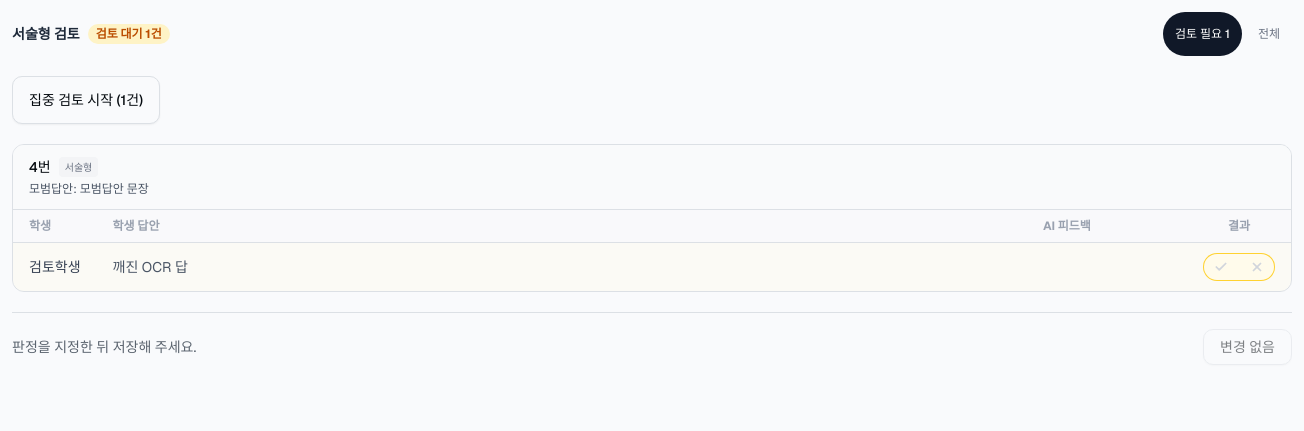
SubjectiveReviewPanel — 판정 버튼 분리 › "전체" 칩을 누르면 모든 학생이 보인다
This screenshot has width=1304, height=431.
Step 1. Click the button "전체" → (1269, 34), box [1246,12,1292,56]
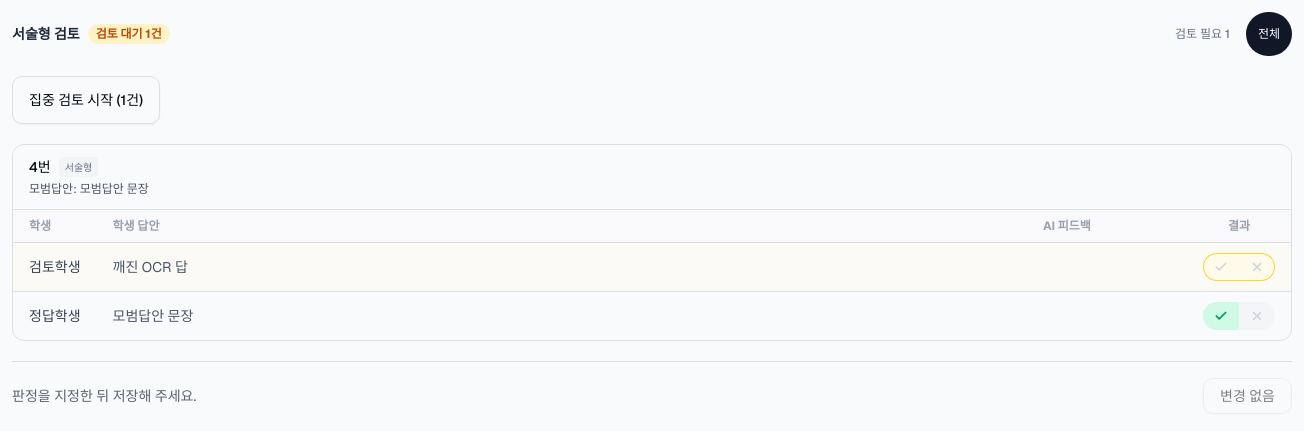
Expected: the text "검토학생" is shown, [13,242,96,292]
Result: the text "정답학생" is shown at [13,292,96,340]
